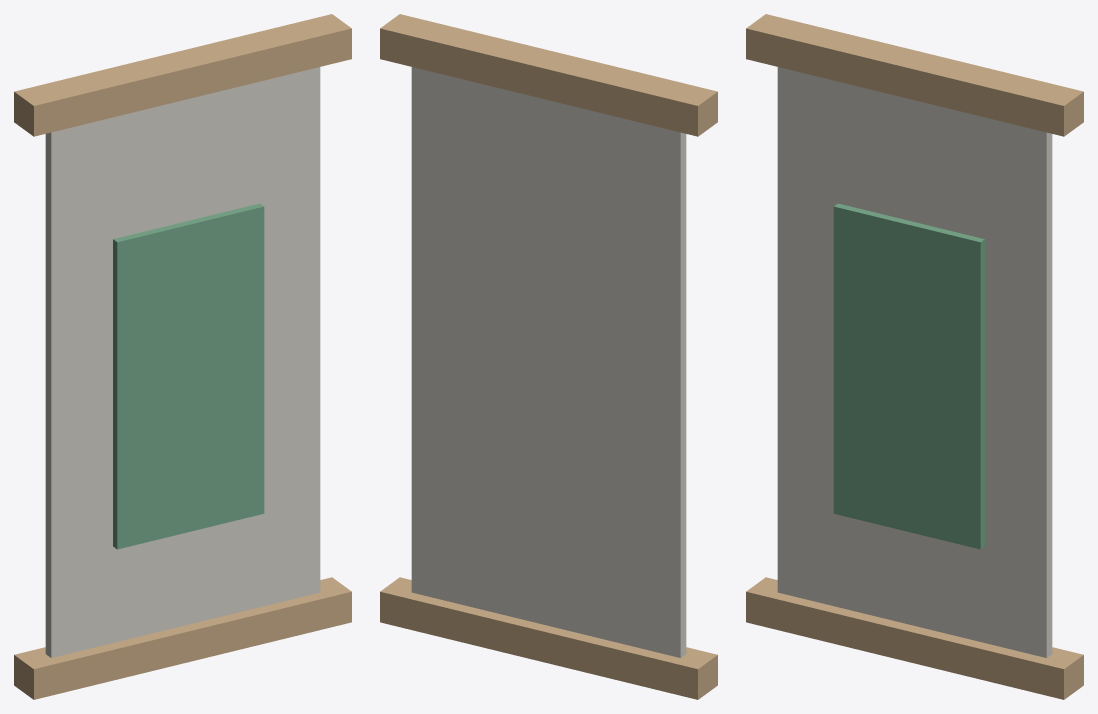
Rendered from feudal-japan-castle-town-hanging-scroll-10c92e39__26436.glb.
3 views of the same model, side by side, from view 1: azimuth 30°, elevation 25°; view 2: azimuth 150°, elevation 25°; view 3: azimuth 330°, elevation 25° (orthographic).
Parts seen in each view (by area): view 1: hanging-scroll; view 2: hanging-scroll; view 3: hanging-scroll.
Boxes of the visible parts, x1,y1,x2,y2 form: hanging-scroll: [14, 14, 351, 699]; hanging-scroll: [380, 14, 717, 699]; hanging-scroll: [746, 14, 1083, 699].
Size of the model in its own units: 0.65 by 1.16 by 0.07.
